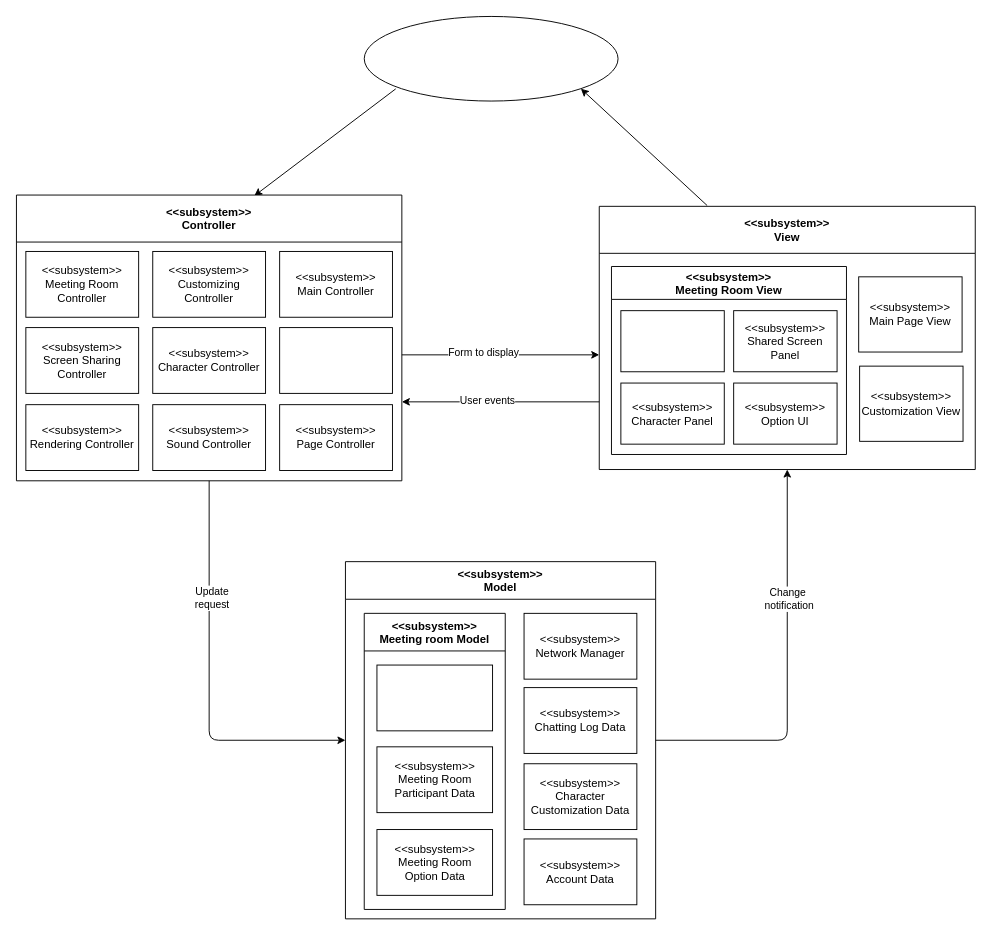
This 992x935 diagram has some shape labels left out. Each missing label, with the box of its shape:
<<subsystem>> Cam Controller: (279, 327, 392, 393)
<<subsystem>> Chatting Panel: (620, 310, 724, 372)
<<subsystem>> Meeting Room Data: (376, 664, 493, 731)
Browser: (363, 16, 618, 101)
